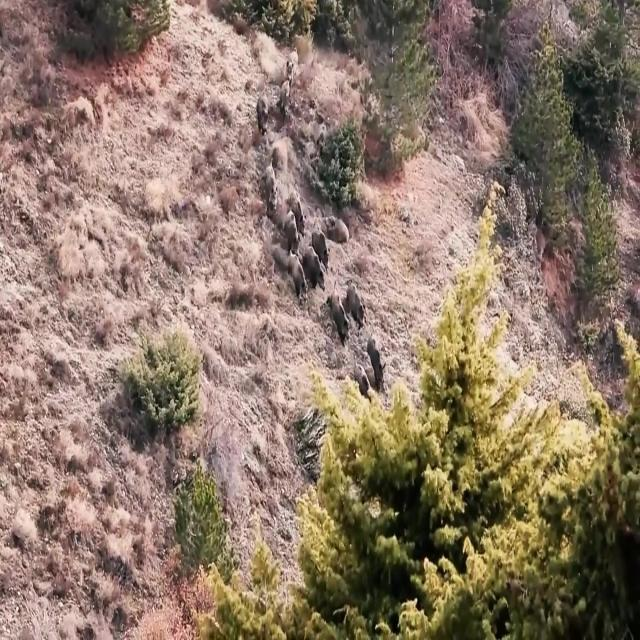pig: (372, 324, 389, 381)
